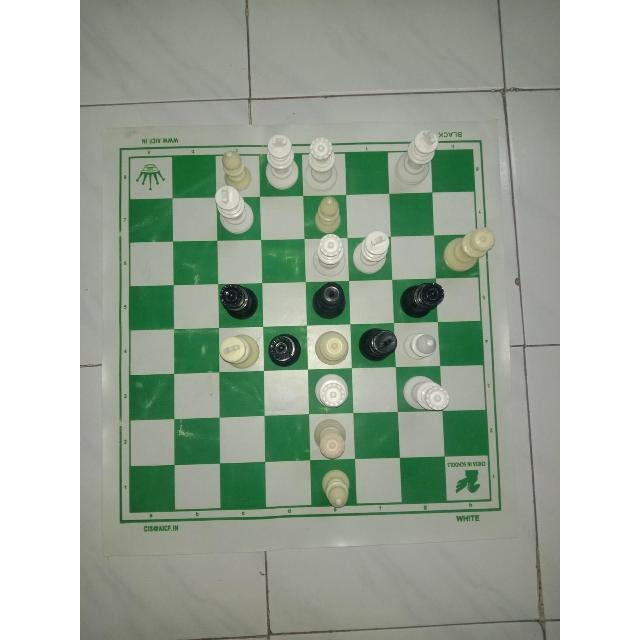black-king: (357, 325, 401, 365)
black-queen: (396, 279, 446, 319), (216, 283, 257, 323), (307, 281, 350, 319), (267, 328, 306, 368)
white-bishop: (213, 145, 252, 192), (315, 465, 353, 509), (403, 327, 447, 362), (311, 194, 346, 236)
white-king: (392, 128, 442, 188), (262, 133, 302, 193), (213, 188, 257, 238), (351, 228, 395, 278), (218, 331, 262, 374)
white-queen: (441, 226, 496, 272), (399, 372, 449, 412), (303, 136, 338, 192), (315, 415, 351, 463), (311, 232, 347, 278), (313, 327, 351, 367), (314, 371, 350, 411)
